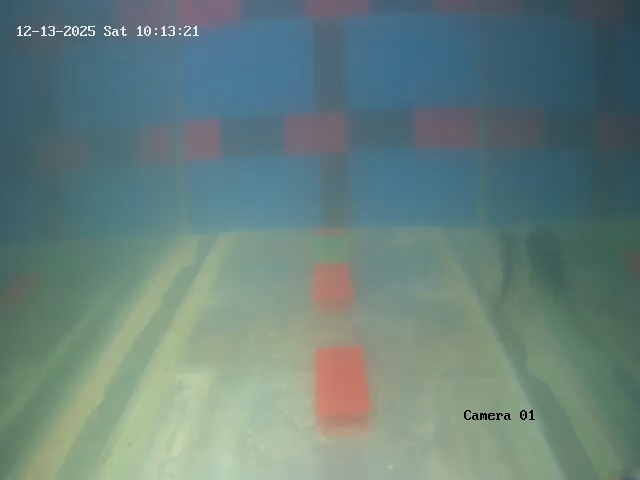fish: (488, 229, 520, 323)
